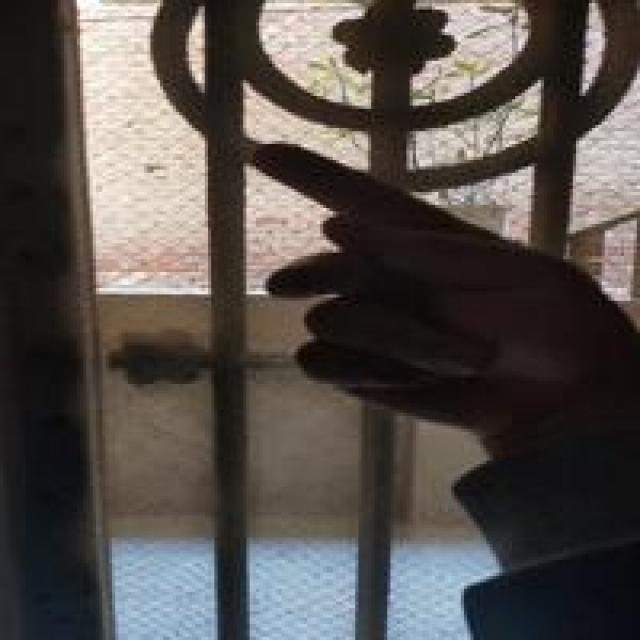K: (224, 133, 598, 440)
